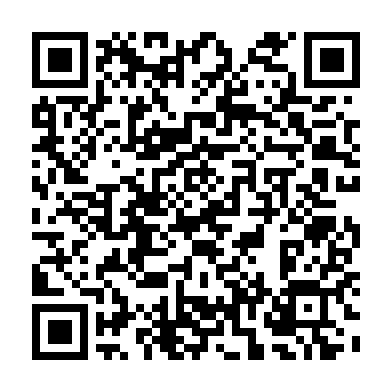QR_CODE: (23, 22, 371, 370)
